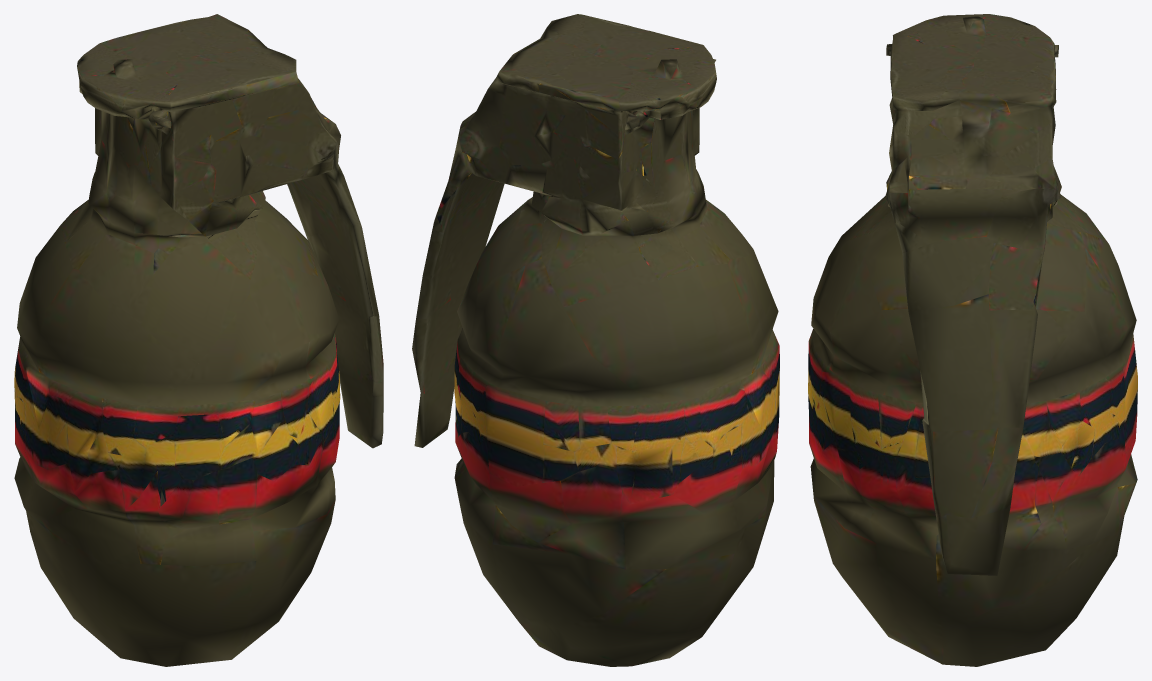
Rendered from duman_bombasi.glb.
3 views of the same model, side by side, from view 1: azimuth 30°, elevation 25°; view 2: azimuth 150°, elevation 25°; view 3: azimuth 270°, elevation 25° (orthographic).
Visible parts, largest first — view 1: kok; view 2: kok; view 3: kok.
Boxes of the visible parts, box(x1,y1,x2,y2) form: kok: box(14, 14, 383, 666); kok: box(412, 14, 779, 666); kok: box(808, 14, 1137, 666).
Bounding box in the file's own units: 0.0904 × 0.15 × 0.0763.
1 material, 1 textured.
